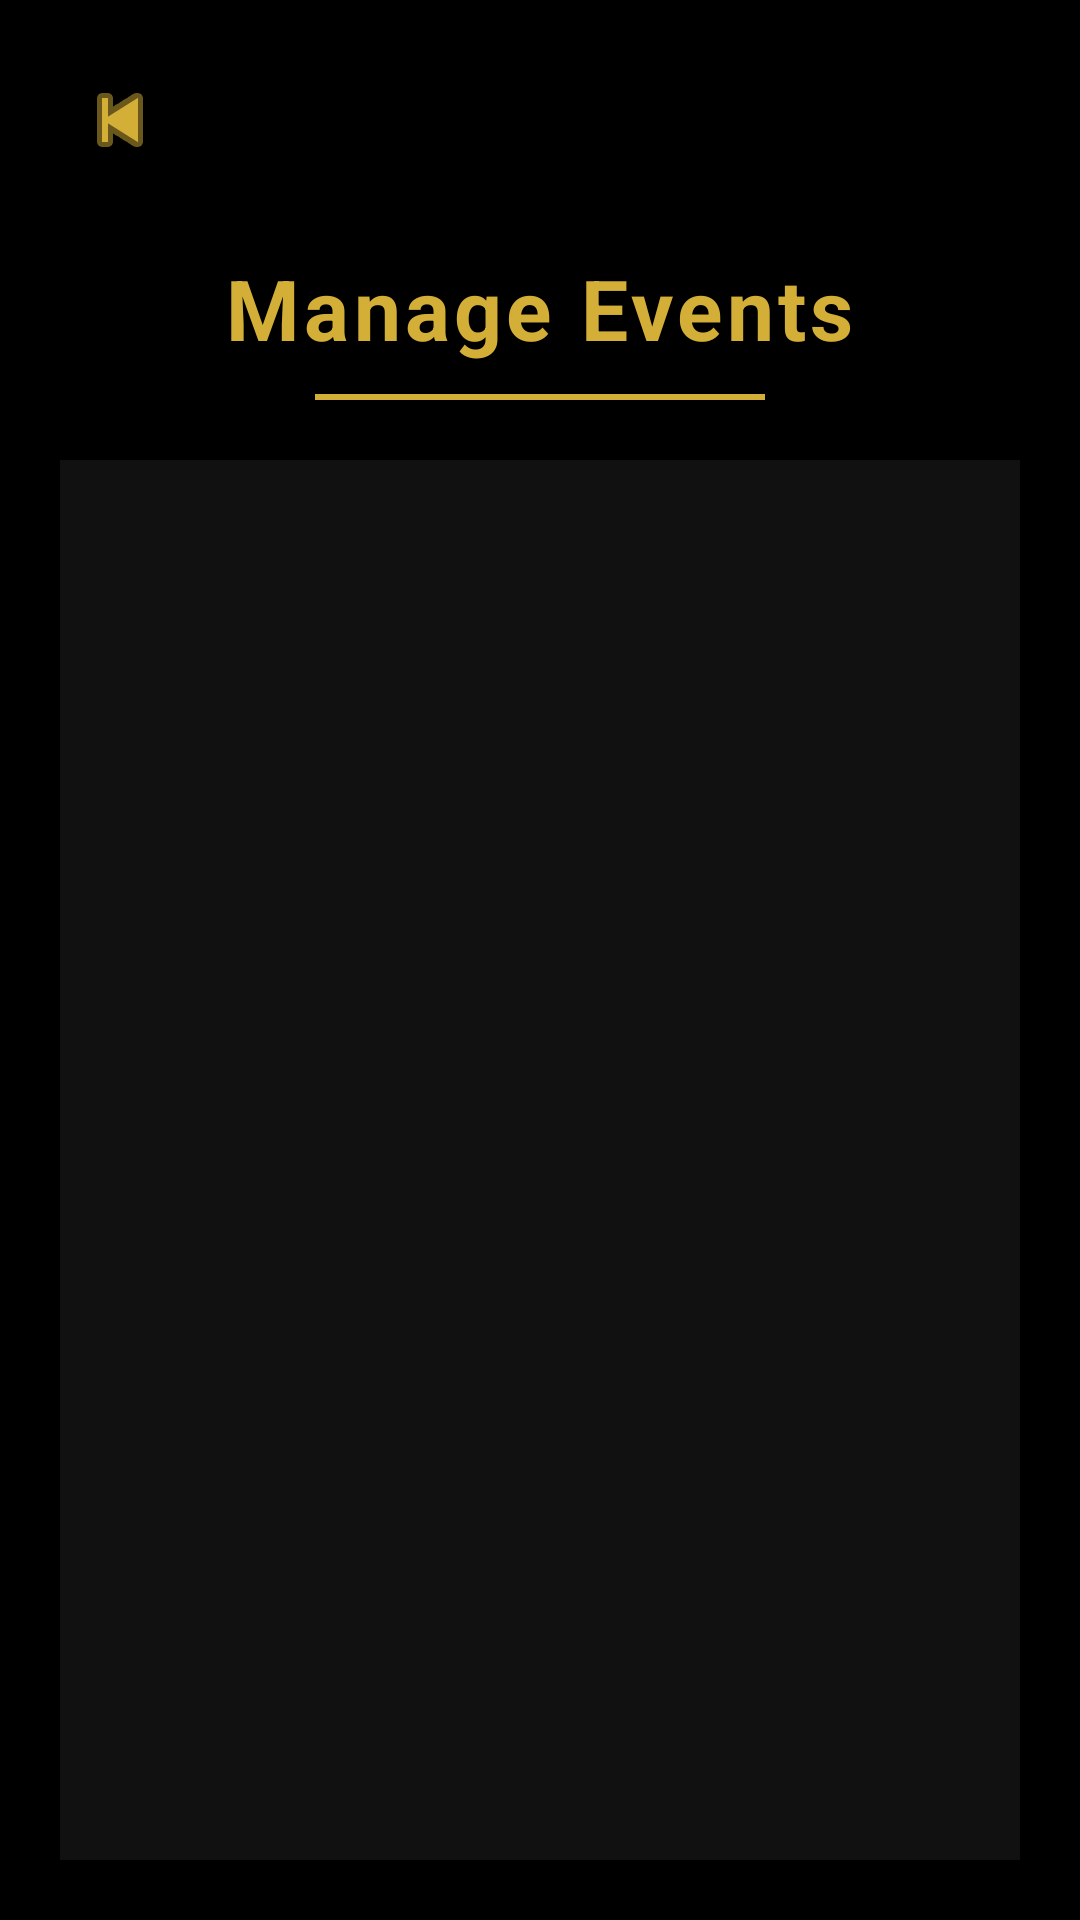

Point at icon controls on the screen. Image size 1080x1920, points as (x,y).
previous: (120,120)
